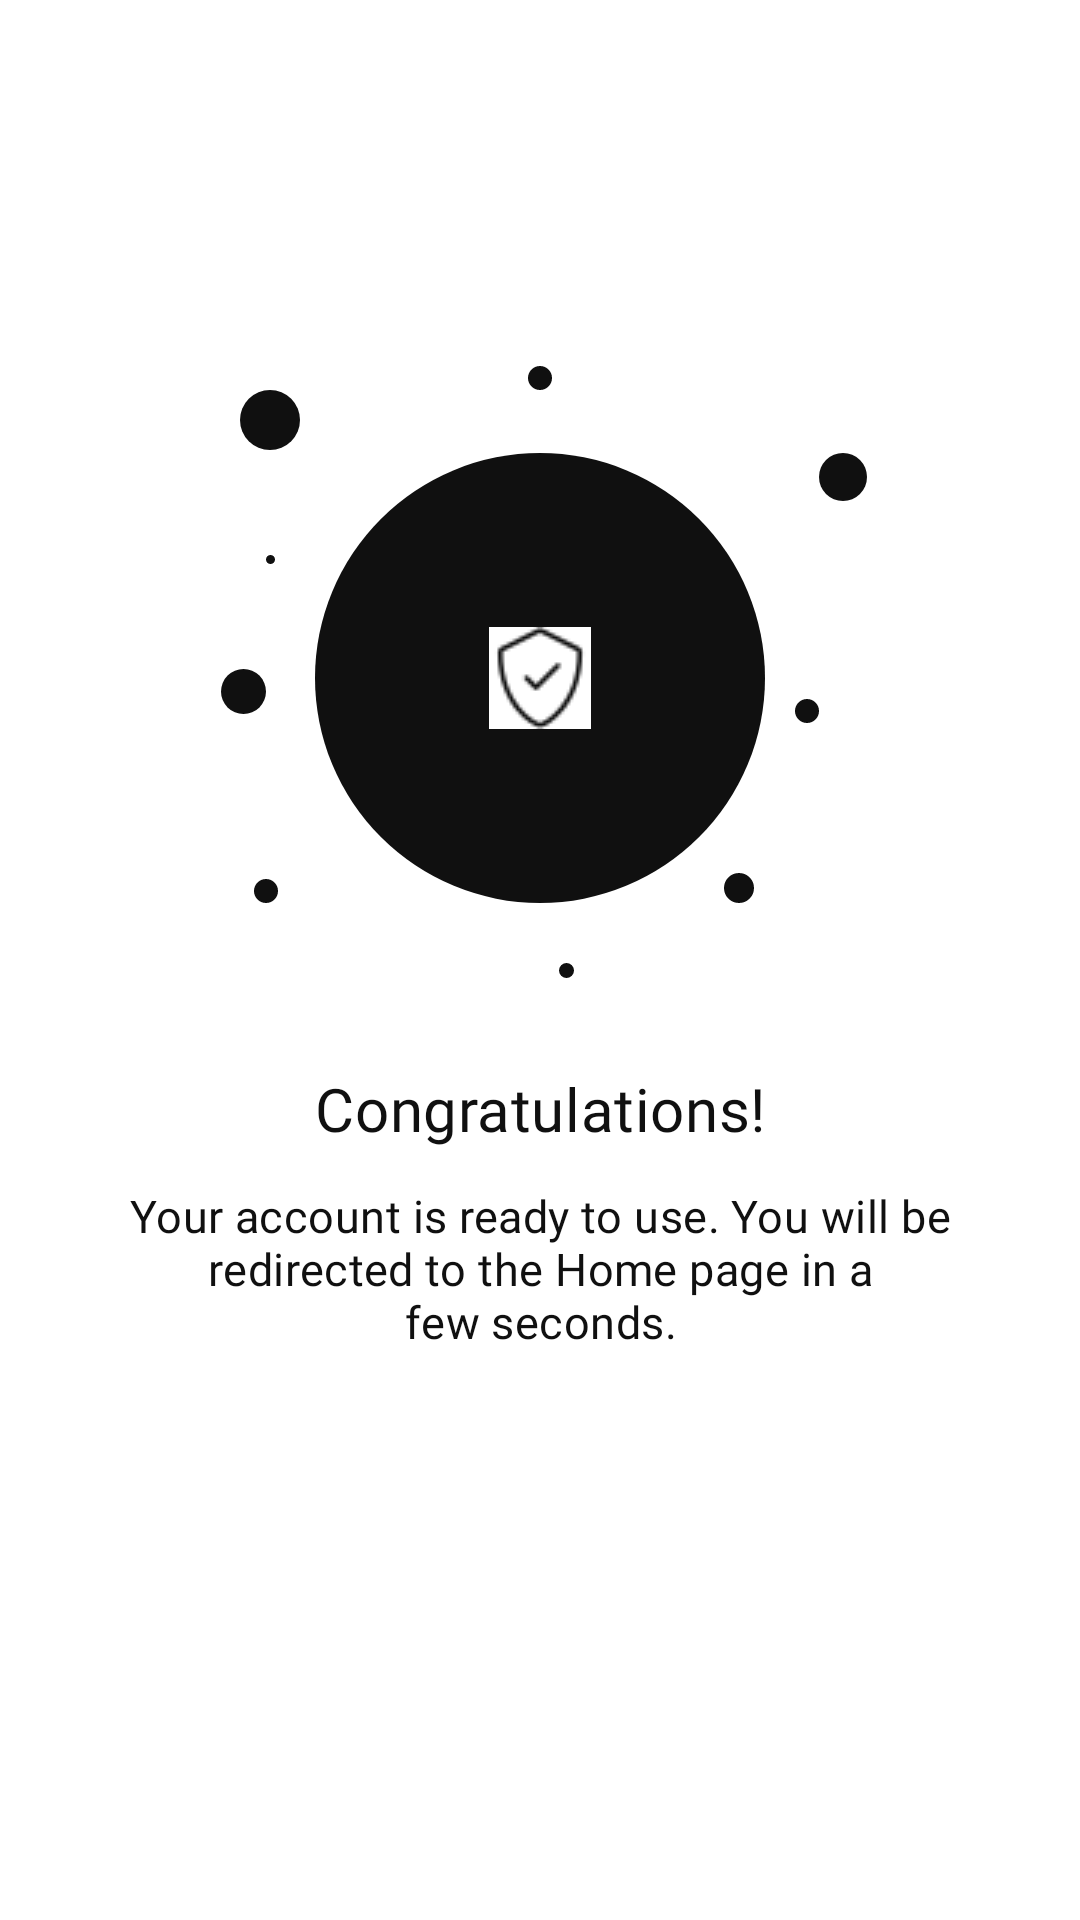

Named icons in this screenshot (1080px×1920px) and their bounding boxes, bbox=(x1, y1, x2, y2):
shield: bbox=(489, 627, 591, 729)
